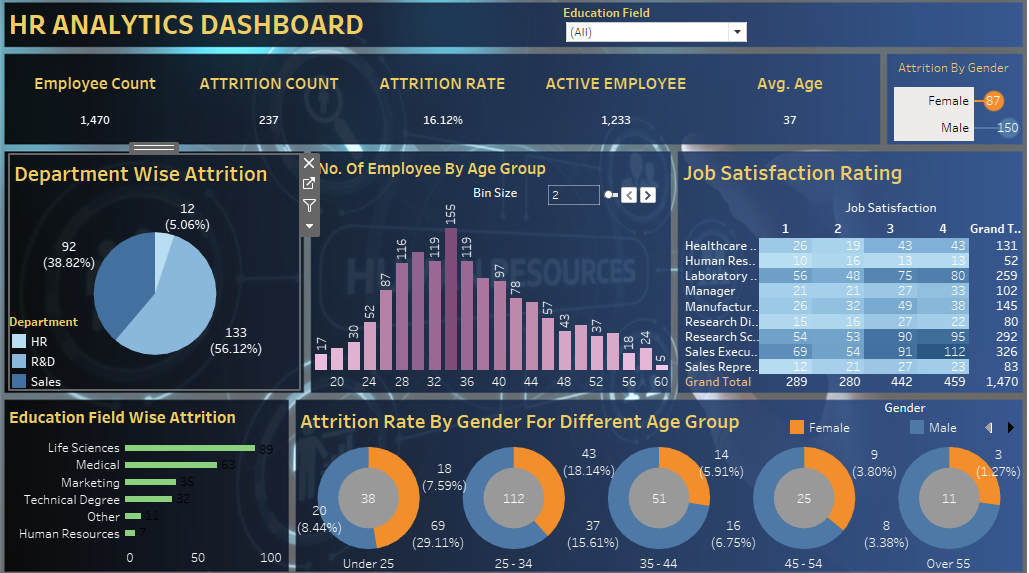

The dashboard page shown, as its layout file describes it:
{"tool":"tableau","page":{"name":"Dashboard 1","canvas":[1000,1000],"units":"permille","ordinal":0},"visuals":[{"type":"image","param":"Image/HR background.pptx.png","box":[6.8,13.3,986.3,973.4]},{"type":"text","box":[65.8,28.2,336.8,68.1]},{"type":"filter","title":"Education Field Wise Attrition","param":"[federated.0wvn0iw1l68ftb156e9xl0fc664g].[none:Education Field:nk]","box":[541.9,29.9,159.8,64.8]},{"type":"worksheet","title":"KPI","mark":"Automatic","box":[67.4,113,742.3,152.8]},{"type":"worksheet","title":"Attrition By Gender","mark":"Automatic","rows":["Gender"],"cols":["Calculation_316940836476526592","Calculation_316940836476526592"],"box":[824.6,114.6,108.6,142.9]},{"type":"worksheet","title":"No. Of Employee By Age Group","mark":"Automatic","rows":["Employee Count"],"cols":["Age (bin)"],"box":[328.5,277.4,305.4,395.4]},{"type":"worksheet","title":"Job Satisfaction Rating","mark":"Square","rows":["Job Role"],"cols":["Job Satisfaction"],"box":[640.7,279.1,293.4,390.4]},{"type":"worksheet","title":"Department Wise Attrition","mark":"Pie","box":[69.1,280.7,247.4,388.7]},{"type":"parameter","param":"[Parameters].[Parameter 1]","box":[465.4,325.6,159.1,61.5]},{"type":"legend","title":"Department Wise Attrition","param":"[federated.0wvn0iw1l68ftb156e9xl0fc664g].[none:Department:nk]","box":[68.4,543.2,62.5,129.6]},{"type":"legend","title":"Attrition Rate By Gender For Different Age Group","param":"[federated.0wvn0iw1l68ftb156e9xl0fc664g].[none:Gender:nk]","box":[733.3,686.1,201.7,63.1]},{"type":"worksheet","title":"Education Field Wise Attrition","mark":"Automatic","rows":["Education Field"],"cols":["Calculation_316940836476526592"],"box":[65,691,240.4,275.8]},{"type":"worksheet","title":"Attrition Rate By Gender For Different Age Group","mark":"Pie","rows":["Calculation_316940838633132039","Calculation_316940838633132039"],"cols":["CF_age band"],"box":[313.9,692.7,620.2,275.8]}]}

Visuals, with their boxes on the dashboard's canvas, which has no fixed pixel size, in thousandths of its width and height (x1, y1, x2, y2). These are canvas units, not pixel positions in the 1029x573 screenshot, which may show the page scaled, cropped or inside an application window:
image: locate(7, 13, 993, 987)
text: locate(66, 28, 403, 96)
"Education Field Wise Attrition" filter: locate(542, 30, 702, 95)
"KPI" worksheet: locate(67, 113, 810, 266)
"Attrition By Gender" worksheet: locate(825, 115, 933, 258)
"No. Of Employee By Age Group" worksheet: locate(328, 277, 634, 673)
"Job Satisfaction Rating" worksheet (Square marks): locate(641, 279, 934, 670)
"Department Wise Attrition" worksheet (Pie marks): locate(69, 281, 316, 669)
parameter: locate(465, 326, 624, 387)
"Department Wise Attrition" legend: locate(68, 543, 131, 673)
"Attrition Rate By Gender For Different Age Group" legend: locate(733, 686, 935, 749)
"Education Field Wise Attrition" worksheet: locate(65, 691, 305, 967)
"Attrition Rate By Gender For Different Age Group" worksheet (Pie marks): locate(314, 693, 934, 968)
